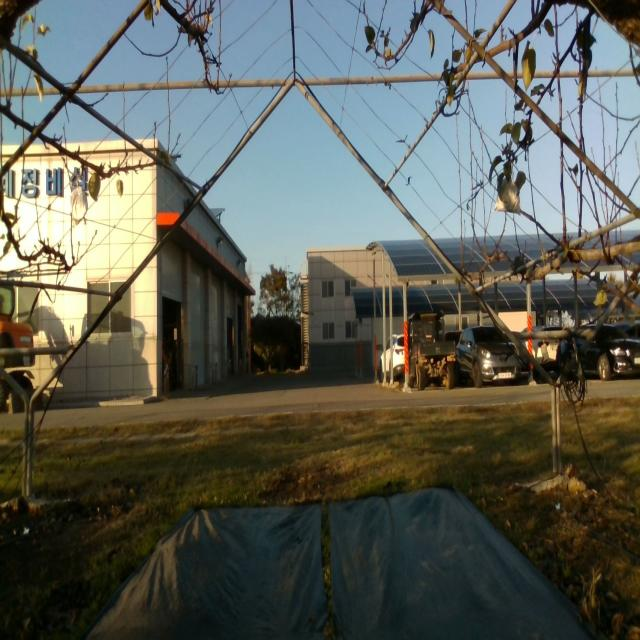pearbags: (491, 176, 521, 218), (70, 186, 89, 228)
